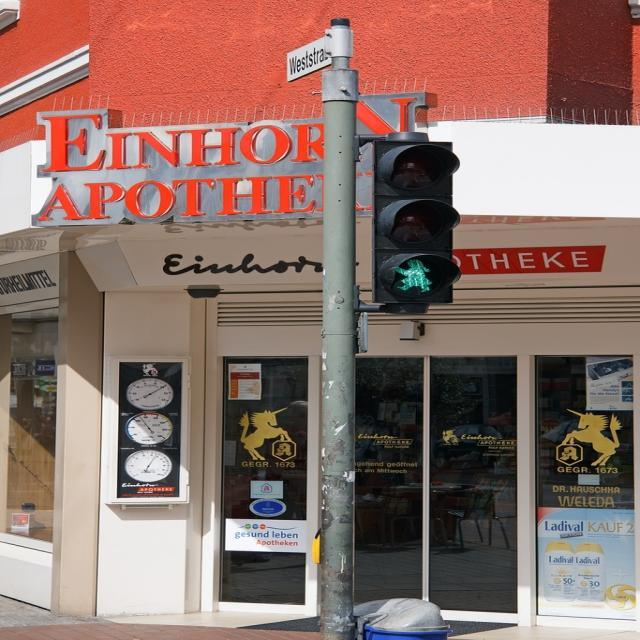traffic light: (375, 138, 457, 307)
